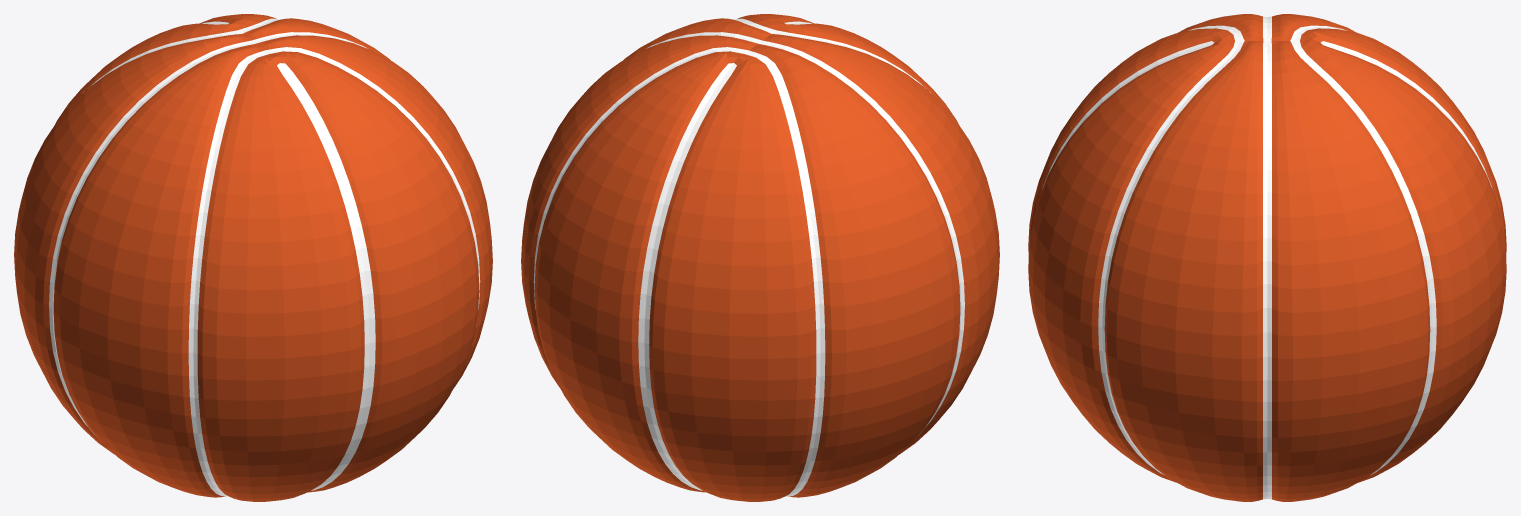
The model's file is p_basket.glb.
3 views of the same model, side by side, from view 1: azimuth 30°, elevation 25°; view 2: azimuth 150°, elevation 25°; view 3: azimuth 270°, elevation 25° (orthographic).
Visible parts, largest first — view 1: Sphere; view 2: Sphere; view 3: Sphere.
Part boxes in pixels (<box>): Sphere: <box>14,14,492,501</box>; Sphere: <box>521,14,999,501</box>; Sphere: <box>1028,14,1506,501</box>.
Bounding box in the file's own units: 1.93 × 1.96 × 1.93.
